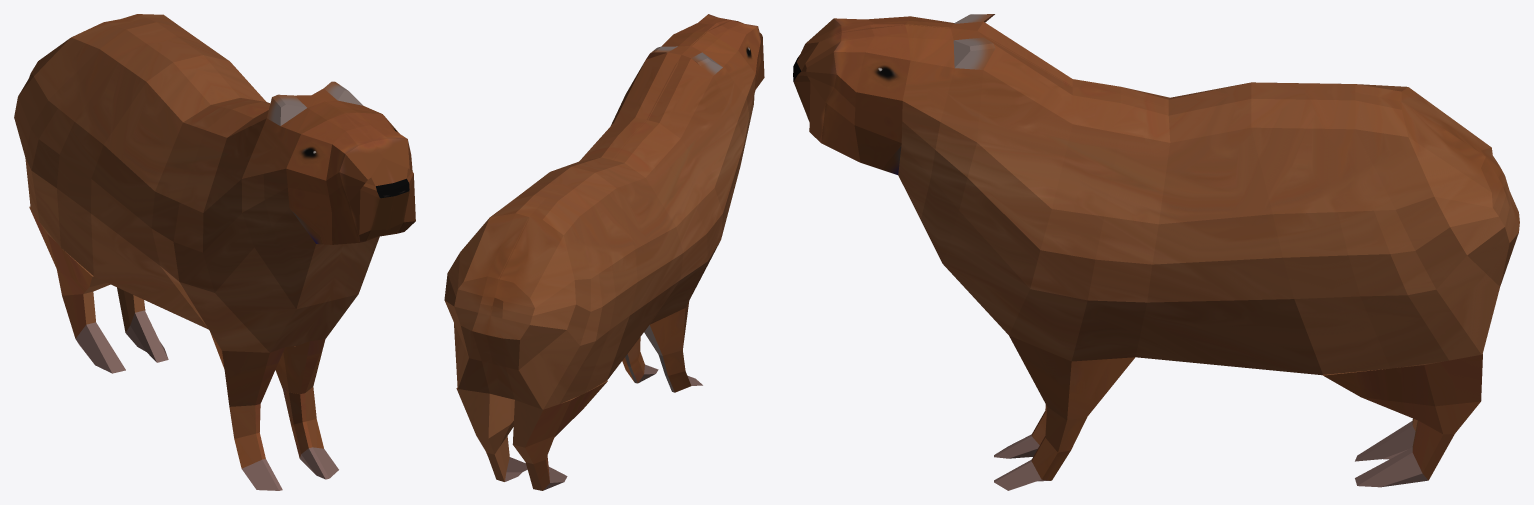
File: capivaraaaaaaaaaaaaaaa.fbx
3 views of the same model, side by side, from view 1: azimuth 30°, elevation 25°; view 2: azimuth 150°, elevation 25°; view 3: azimuth 270°, elevation 25° (orthographic). The views are drawn at different scales.
Parts seen in each view (by area): view 1: Plane; view 2: Plane; view 3: Plane.
Boxes of the visible parts, x1,y1,x2,y2 form: Plane: (14,14,415,490); Plane: (444,14,764,490); Plane: (793,14,1519,490).
Bounding box in the file's own units: 270 × 599 × 884.
